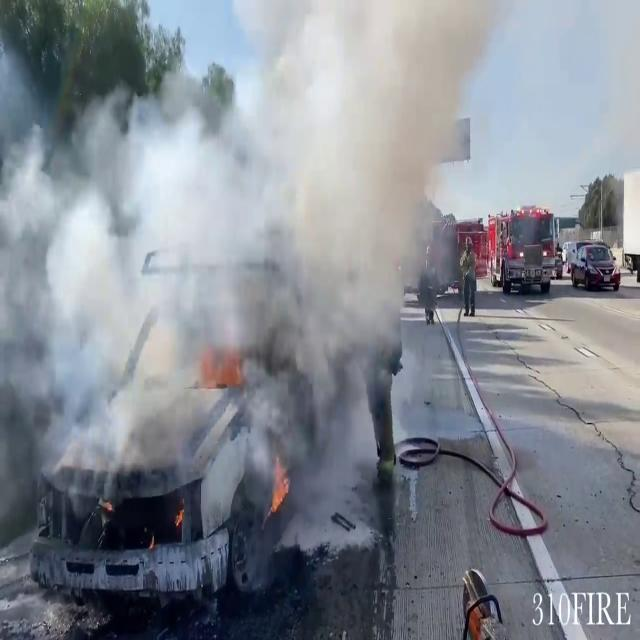Smoke: (0, 4, 448, 536)
